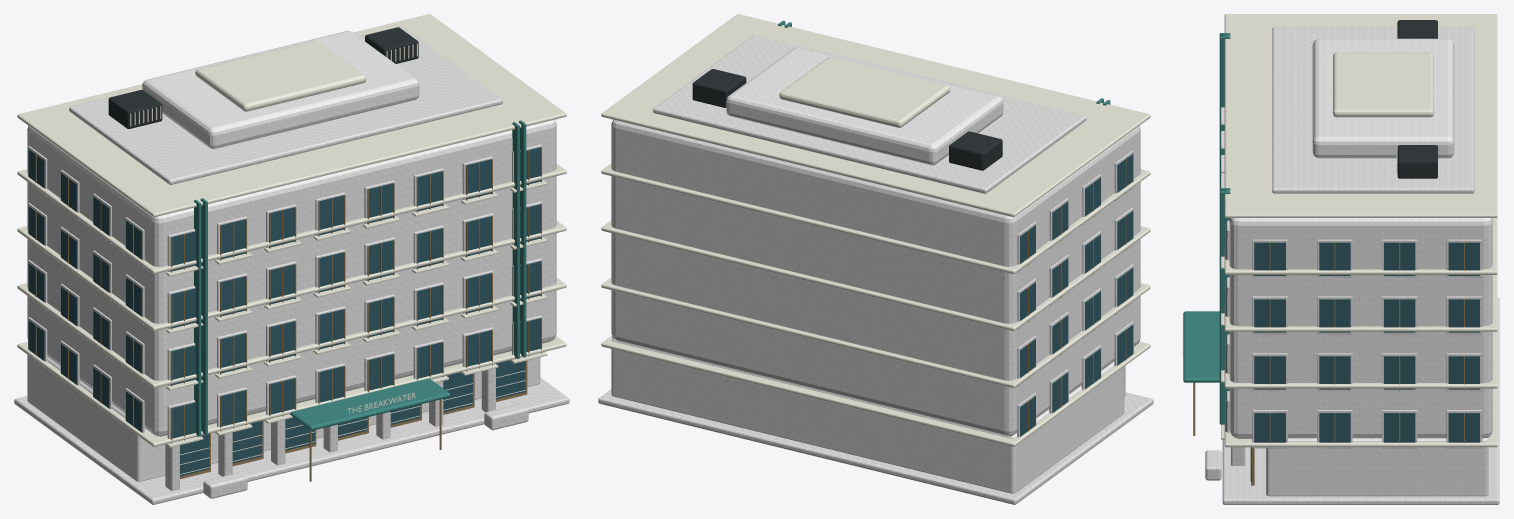
The model's file is hotel_lod1.glb.
3 renders of one model, left to right at view 1: azimuth 30°, elevation 25°; view 2: azimuth 150°, elevation 25°; view 3: azimuth 270°, elevation 25°, orthographic.
Visible parts, largest first — view 1: hotel_body.001; view 2: hotel_body.001; view 3: hotel_body.001.
Part boxes in pixels (x1=…): hotel_body.001: x1=14, y1=14, x2=569, y2=504; hotel_body.001: x1=598, y1=14, x2=1153, y2=504; hotel_body.001: x1=1182, y1=14, x2=1499, y2=504.
Size of the model in its own units: 23.8 by 17.61 by 15.7.
8 materials, 3 textured.
